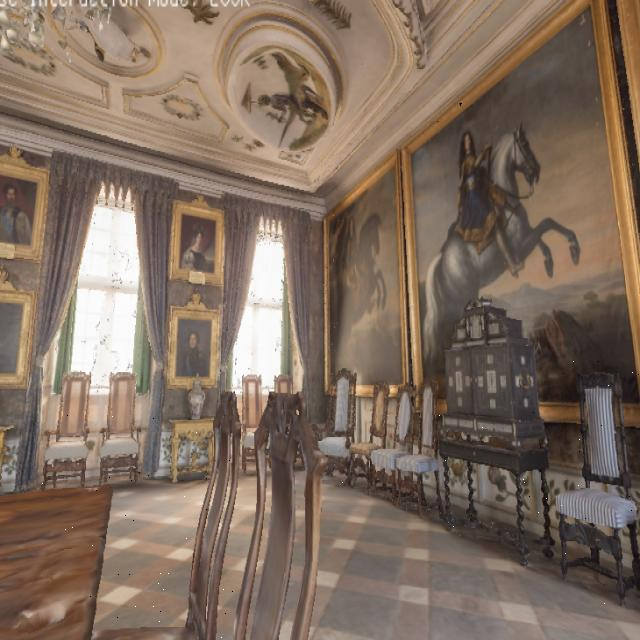chair: (83, 382, 235, 640), (556, 352, 640, 604), (398, 383, 439, 542), (46, 370, 91, 488), (318, 361, 360, 487), (104, 378, 145, 476)
table: (0, 464, 121, 640), (429, 409, 547, 548), (157, 411, 223, 478)
